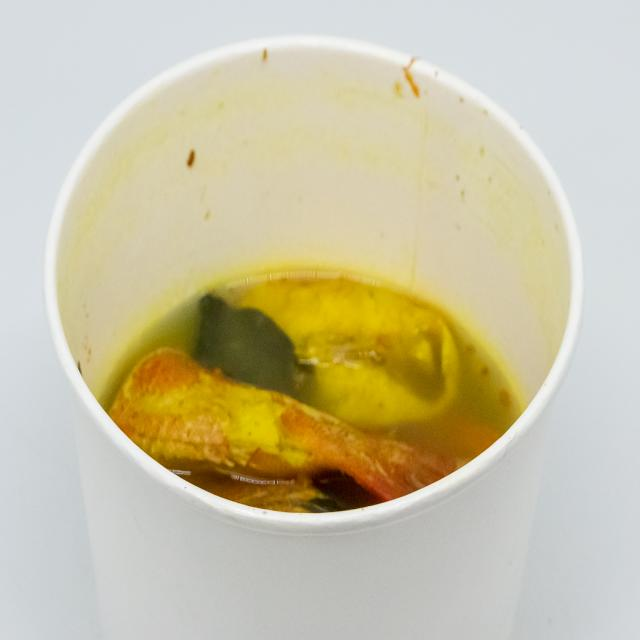Gulai-Ikan-Mas: (68, 219, 531, 522)
